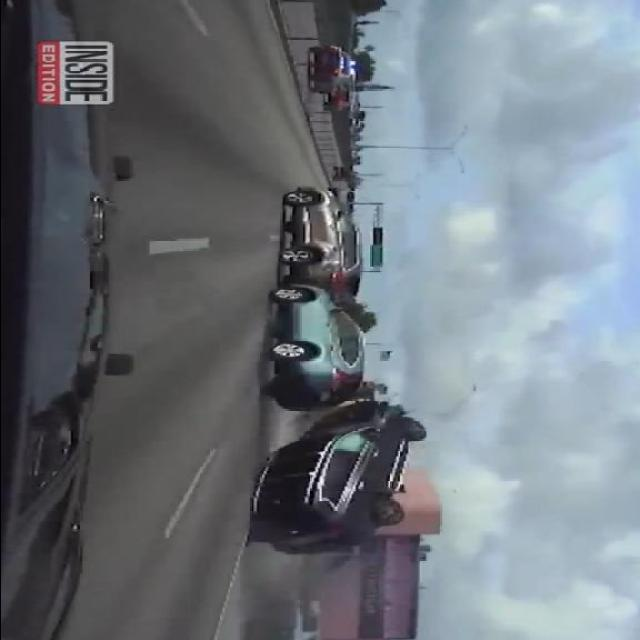accident: (236, 399, 432, 561)
